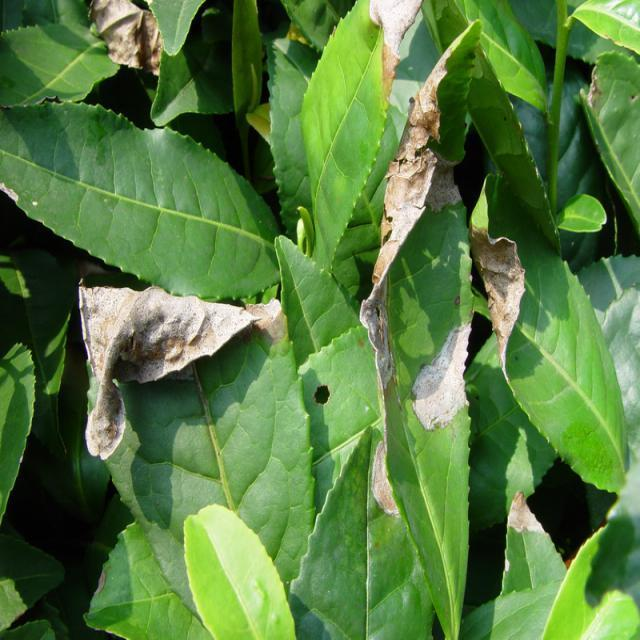Tea cloud leaf blight: (80, 261, 303, 427), (367, 70, 429, 467), (476, 187, 525, 368), (417, 316, 477, 432)
